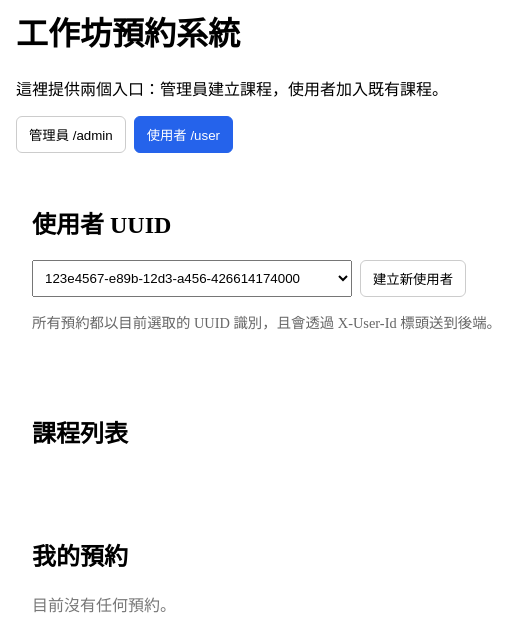
App user reservations UI › creates a new user from the online generator endpoint and switches uuid
Click the button with test id "create-user".
click(413, 278)  # box [360,260,466,297]
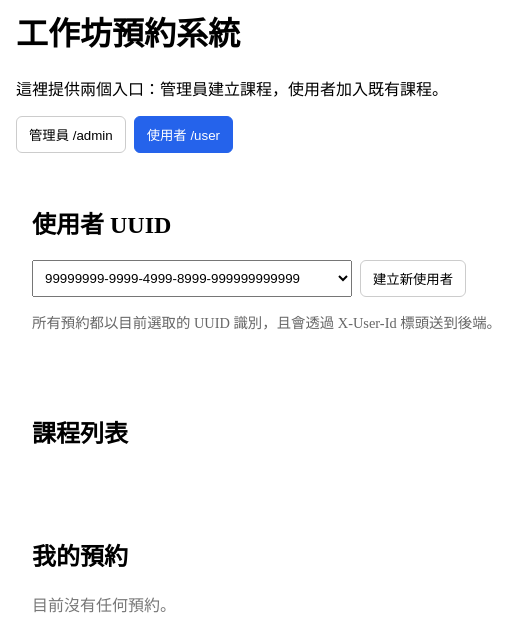
Check: the dropdown with test id "user-switcher" shows "99999999-9999-4999-8999-999999999999", box [32,260,352,297]
